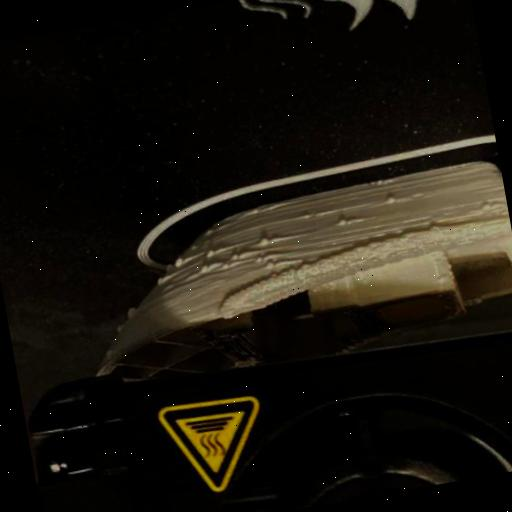blobs: (256, 256, 282, 278), (252, 228, 274, 250), (196, 241, 218, 262), (171, 252, 188, 272), (378, 193, 396, 210), (224, 250, 242, 266), (334, 214, 352, 230), (124, 304, 139, 323), (152, 273, 167, 288), (196, 262, 210, 277)
